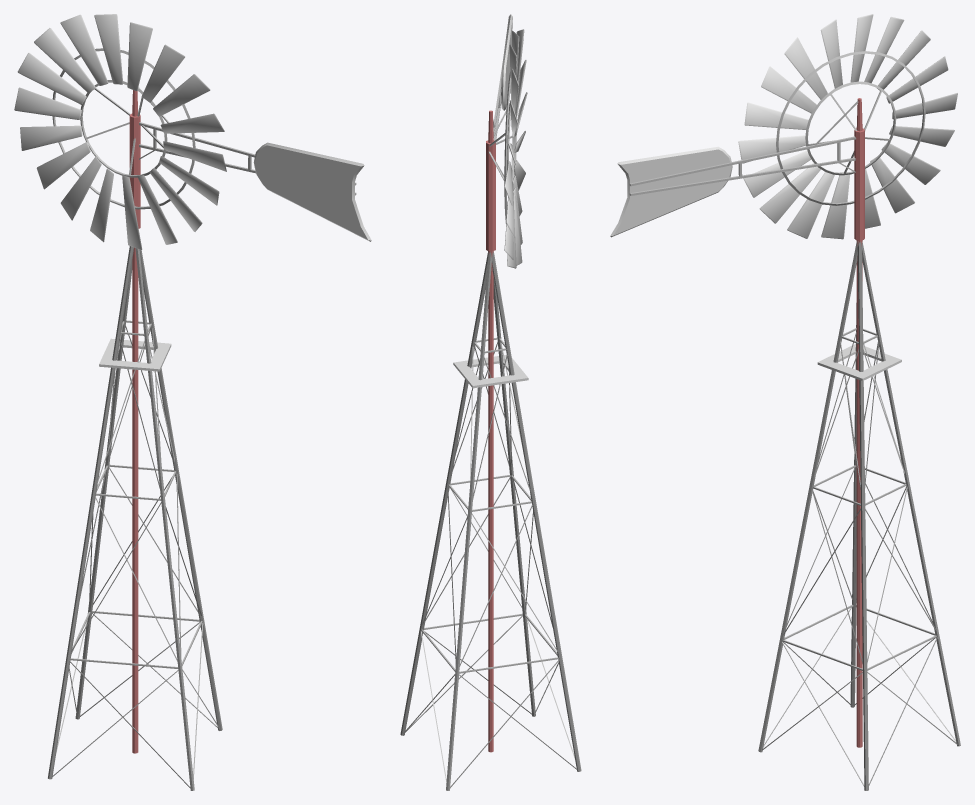
File: vetryak.fbx
The picture shows the model from 3 angles, left to right: view 1: azimuth 30°, elevation 25°; view 2: azimuth 150°, elevation 25°; view 3: azimuth 270°, elevation 25°; orthographic projection. The views are drawn at different scales.
Parts seen in each view (by area): view 1: Vetryak; view 2: Vetryak; view 3: Vetryak.
Boxes of the visible parts, x1,y1,x2,y2 form: Vetryak: [14, 14, 371, 790]; Vetryak: [400, 14, 581, 790]; Vetryak: [610, 14, 960, 790].
Bounding box in the file's own units: 149 × 534 × 235.
